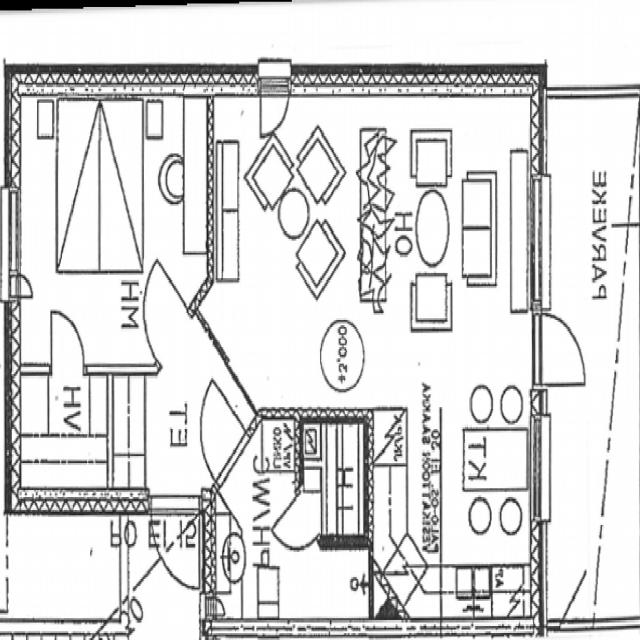door: (128, 258, 192, 366), (187, 379, 250, 485), (152, 488, 198, 592), (531, 314, 587, 382), (276, 490, 321, 562), (52, 310, 84, 375)
